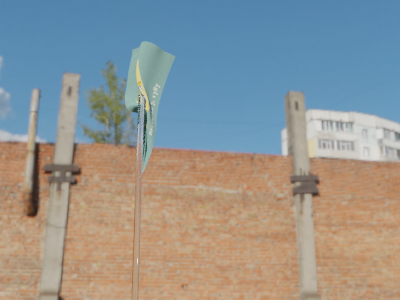Delaware flag: (125, 38, 177, 175)
